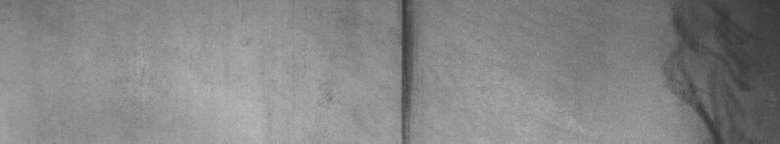hd: (327, 4, 420, 136)
